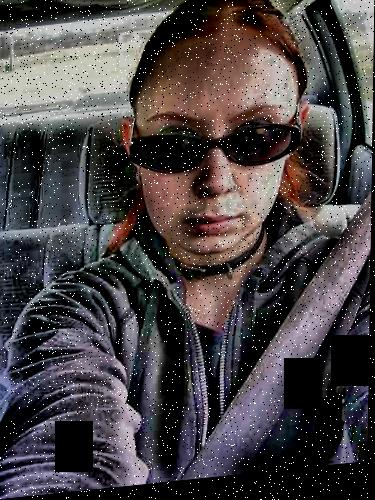seatbelt: (185, 225, 359, 469)
